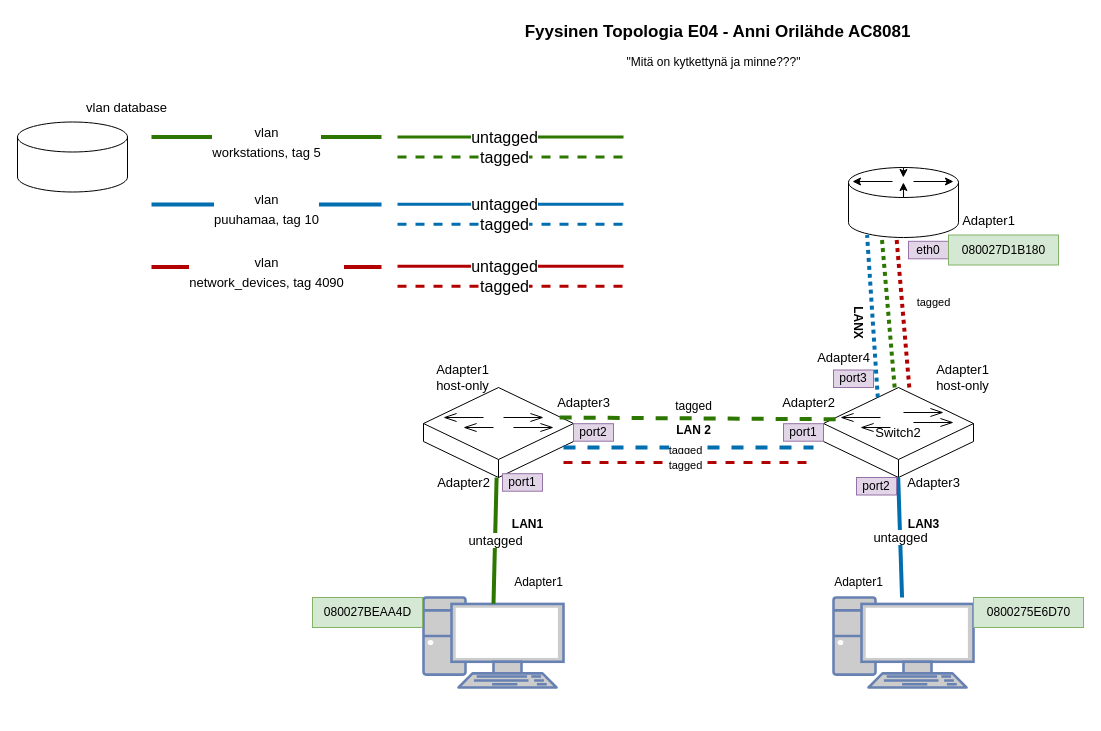
Image size: 1101x731. Some labels were removed from this diagram. Each missing label, with the centre of its shape:
Lubuntu-tietoverkot: the point at 493,642
Lubuntu-tietoverkot2: the point at 903,642
Switch: the point at 498,432
Vyos_Reititin1: the point at 903,202
